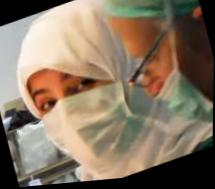OK: (22, 40, 155, 184)
WRONG: (132, 29, 214, 152)
